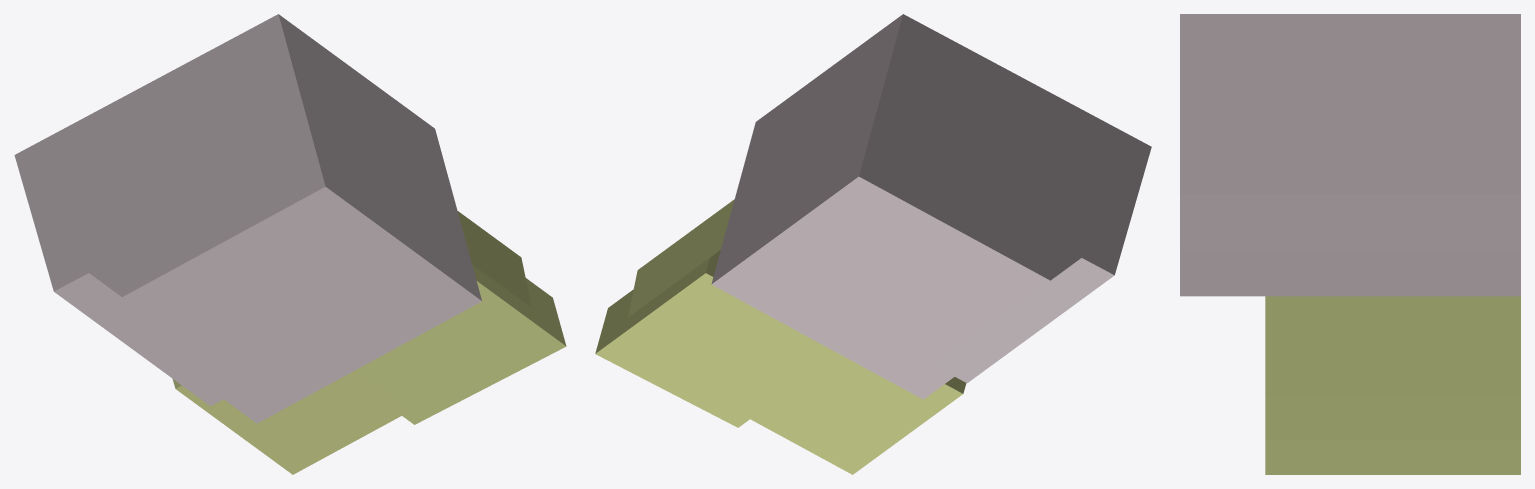
3 views of the same model, side by side, from view 1: azimuth 30°, elevation 25°; view 2: azimuth 150°, elevation 25°; view 3: azimuth 270°, elevation 25° (orthographic). The views are drawn at different scales.
Parts seen in each view (by area): view 1: 0_1_2_0_3_3_0_0_2_2; view 2: 0_1_2_0_3_3_0_0_2_2; view 3: 0_1_2_0_3_3_0_0_2_2.
Boxes of the visible parts, <box> form: 0_1_2_0_3_3_0_0_2_2: <box>14,14,566,474</box>; 0_1_2_0_3_3_0_0_2_2: <box>595,14,1151,474</box>; 0_1_2_0_3_3_0_0_2_2: <box>1180,14,1520,474</box>.
Size of the model in its own units: 19.22 by 14.79 by 12.
